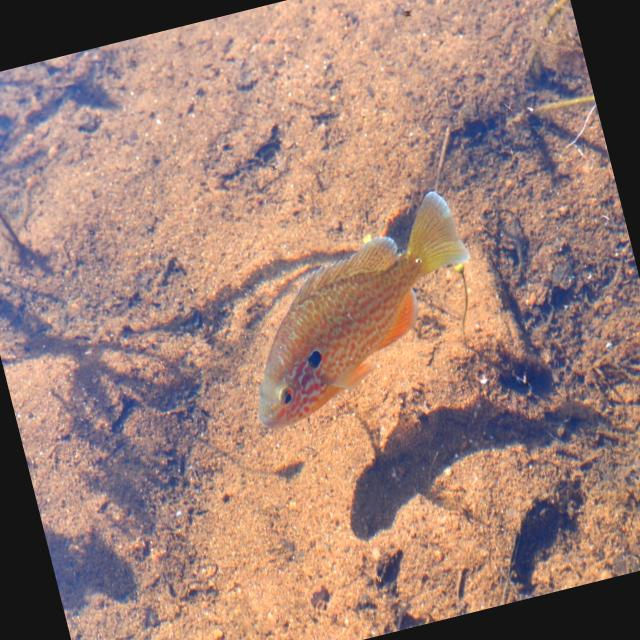Gunes Levregi: (212, 182, 500, 434)
